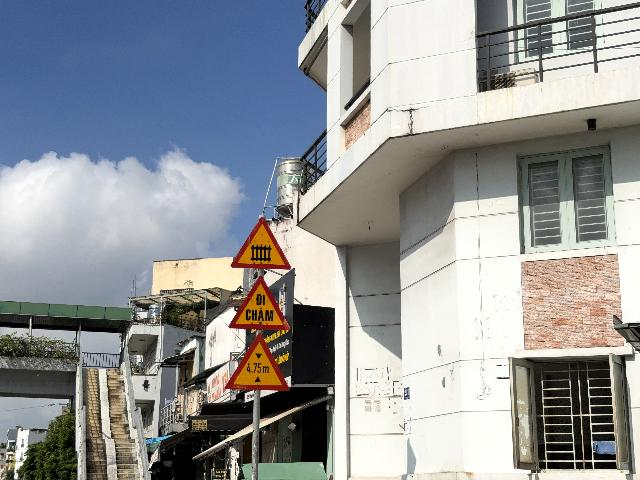chieu-cao-tinh-khong-thuc-te: (225, 333, 290, 391)
di-cham: (227, 275, 290, 330)
noi-giao-nhau-voi-duong-sat-co-rao-chan: (231, 216, 292, 270)
